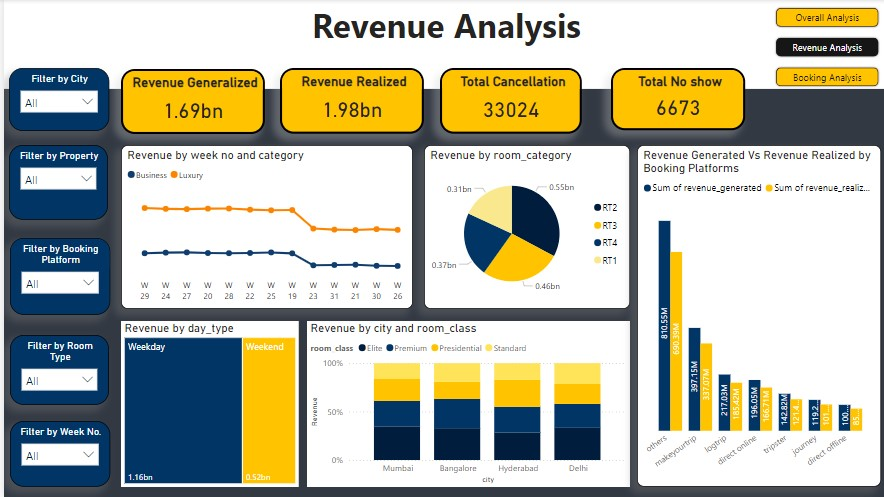

The page's visual inventory and layout, read from the dashboard file:
{"tool":"powerbi","page":{"name":"Revenue Analysis","canvas":[1280,720],"ordinal":1},"visuals":[{"type":"textbox","box":[0,0,1279.5,130.1],"z":0},{"type":"card","title":"Revenue Generalized","fields":{"Values":["BaseMeasures.Revenue"]},"box":[169.2,101.2,208.2,94],"z":1000},{"type":"card","title":"Total Cancellation","fields":{"Values":["BaseMeasures.Total Cancelled Booking"]},"box":[630.4,99.8,205.3,95.4],"z":2000},{"type":"slicer","title":"Filter by Booking Platform","fields":{"Values":["fact_bookings.booking_platform"]},"box":[8.6,345.8,144.6,110.7],"z":2000,"group":"g1"},{"type":"card","title":"Total No show","fields":{"Values":["BaseMeasures.Total no show bookings"]},"box":[877.6,99.8,193.7,89.6],"z":3000},{"type":"group","id":"g1","title":"Group 1","box":[7.2,99.8,146,605.8],"z":4000},{"type":"slicer","title":"Filter by Room Type","fields":{"Values":["dim_rooms.room_class"]},"box":[8.6,485.7,143.1,101.5],"z":4000,"group":"g1"},{"type":"pieChart","fields":{"Category":["fact_bookings.room_category"],"Y":["BaseMeasures.Revenue"]},"box":[607.2,211.1,297.8,237.1],"z":5000},{"type":"hundredPercentStackedColumnChart","fields":{"Category":["dim_hotels.city"],"Y":["BaseMeasures.Revenue"],"Series":["dim_rooms.room_class"]},"box":[438.1,465.5,467,240],"z":6000},{"type":"slicer","title":"Filter by Week No.","fields":{"Values":["dim_date.week no"]},"box":[8.6,610.3,144.6,95.3],"z":6000,"group":"g1"},{"type":"clusteredColumnChart","title":"Revenue Generated  Vs Revenue Realized by Booking Platforms","fields":{"Category":["fact_bookings.booking_platform"],"Y":["Sum(fact_bookings.revenue_generated)","Sum(fact_bookings.revenue_realized)"]},"box":[915.2,211.1,352.8,494.5],"z":7000},{"type":"slicer","title":"Filter by City","fields":{"Values":["dim_hotels.city"]},"box":[7.2,99.8,144.6,90.7],"z":8000,"group":"g1"},{"type":"lineChart","fields":{"Y":["BaseMeasures.Revenue"],"Category":["dim_date.week no"],"Series":["dim_hotels.category"]},"box":[169.2,211.1,422.2,237.1],"z":8000},{"type":"treemap","fields":{"Values":["BaseMeasures.Revenue"],"Group":["dim_date.day_type"]},"box":[169.2,465.5,257.3,240],"z":9000},{"type":"card","title":"Revenue Realized","fields":{"Values":["Sum(fact_bookings.revenue_generated)"]},"box":[399,99.8,208.2,95.4],"z":10000},{"type":"slicer","title":"Filter by Property ","fields":{"Values":["dim_hotels.property_name"]},"box":[7.2,210.5,143.1,107.6],"z":10000,"group":"g1"},{"type":"pageNavigator","box":[1113.3,10.1,154.7,120],"z":11000}]}

Visuals, with their boxes in screenshot pixels (x1, y1, x2, y2), scaled from the page's 1280x720 canvas onto the 884x497 screenshot:
textbox: <region>0, 0, 883, 90</region>
"Revenue Generalized" card: <region>117, 70, 261, 135</region>
"Total Cancellation" card: <region>435, 69, 577, 135</region>
"Filter by Booking Platform" slicer: <region>6, 239, 106, 315</region>
"Total No show" card: <region>606, 69, 740, 131</region>
"Group 1" group: <region>5, 69, 106, 487</region>
"Filter by Room Type" slicer: <region>6, 335, 105, 405</region>
pieChart - fact_bookings.room_category x BaseMeasures.Revenue: <region>419, 146, 625, 309</region>
hundredPercentStackedColumnChart - dim_hotels.city x BaseMeasures.Revenue: <region>303, 321, 625, 487</region>
"Filter by Week No." slicer: <region>6, 421, 106, 487</region>
"Revenue Generated  Vs Revenue Realized by Booking Platforms" clusteredColumnChart: <region>632, 146, 876, 487</region>
"Filter by City" slicer: <region>5, 69, 105, 131</region>
lineChart - BaseMeasures.Revenue x dim_date.week no: <region>117, 146, 408, 309</region>
treemap - BaseMeasures.Revenue x dim_date.day_type: <region>117, 321, 295, 487</region>
"Revenue Realized" card: <region>276, 69, 419, 135</region>
"Filter by Property " slicer: <region>5, 145, 104, 220</region>
pageNavigator: <region>769, 7, 876, 90</region>
